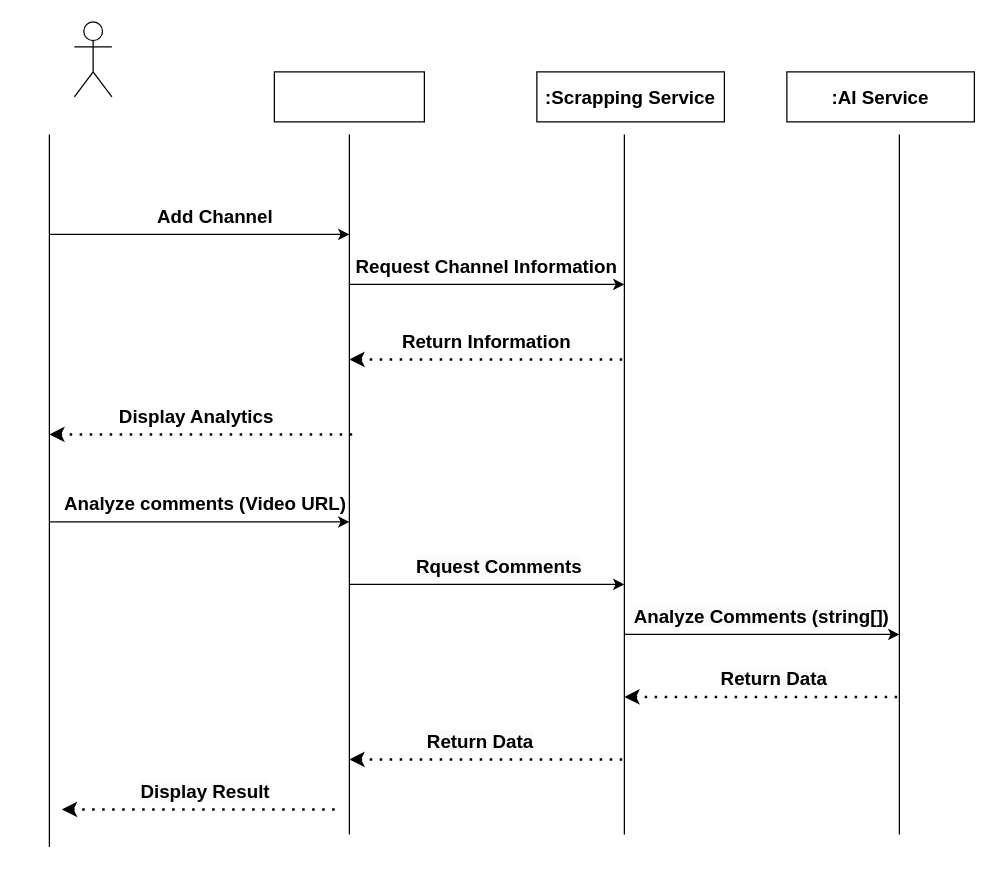
Image size: 996x870. Some labels were removed from this diagram. The centre of each missing label's shape, as x and y in pixels:
":Frontend" goes at point (348, 96).
"Content Creator" goes at point (92, 59).
